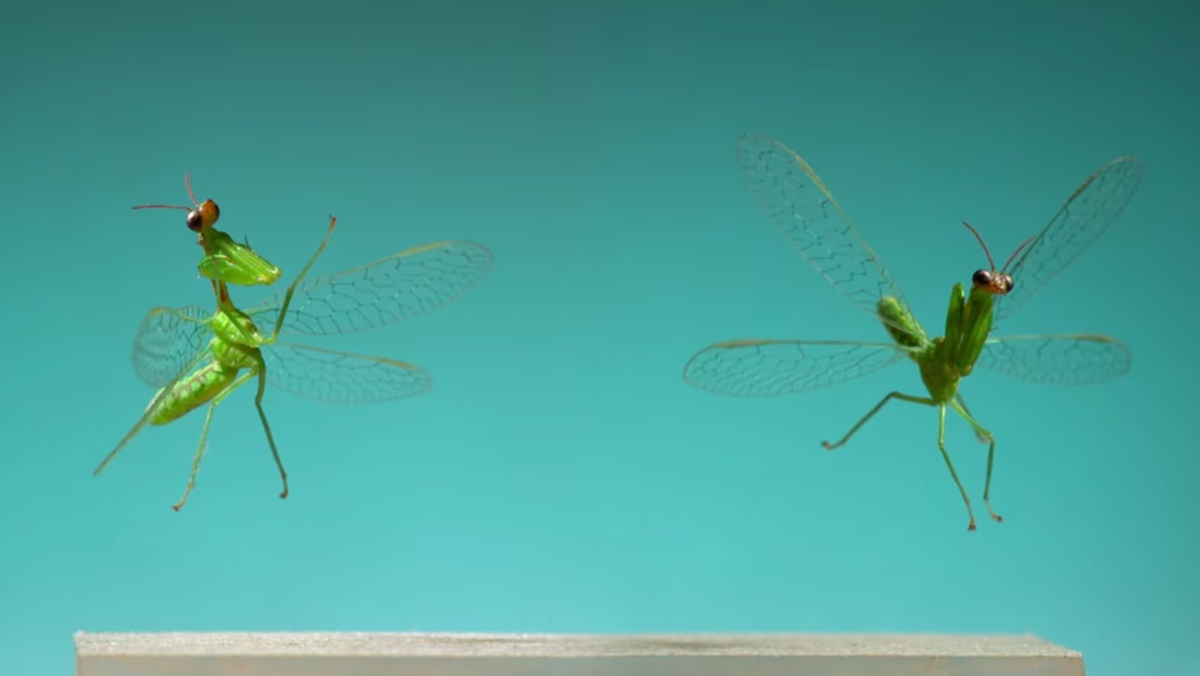insect: (688, 131, 1132, 527), (90, 170, 486, 511)
